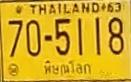0: (26, 19, 40, 56)
1: (95, 16, 100, 54), (78, 18, 82, 55)
5: (54, 18, 71, 55)
7: (8, 19, 22, 56)
8: (108, 16, 124, 54)
PLK: (41, 59, 94, 78)
